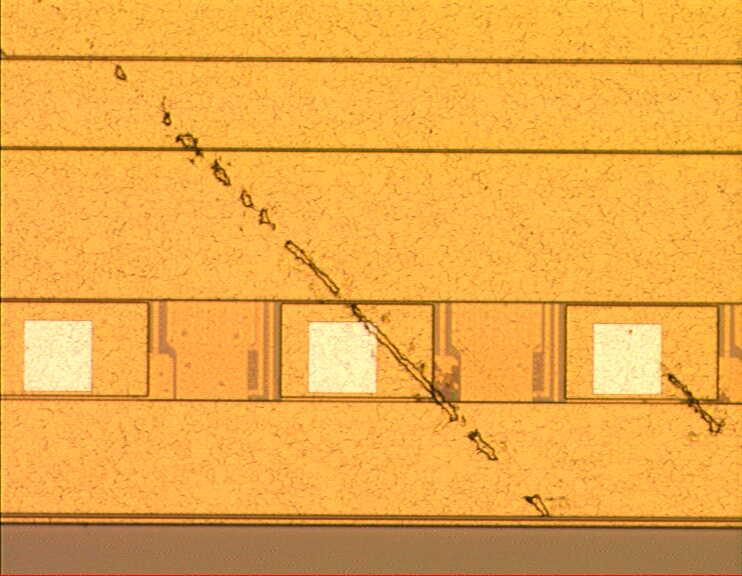SCRATCH: (30, 1, 590, 551), (381, 76, 732, 442)
